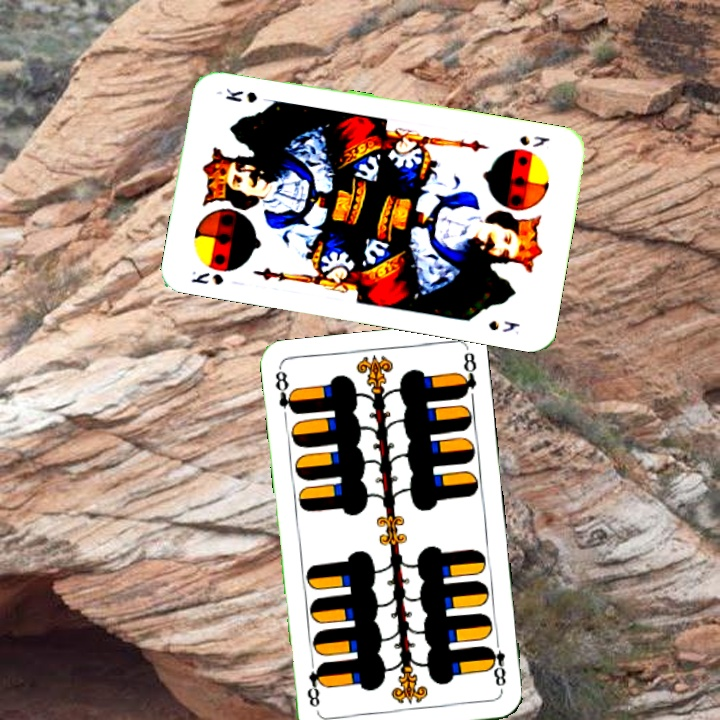E8: (483, 634, 509, 693), (271, 365, 299, 417)
SK: (187, 267, 226, 288), (515, 131, 552, 150)
